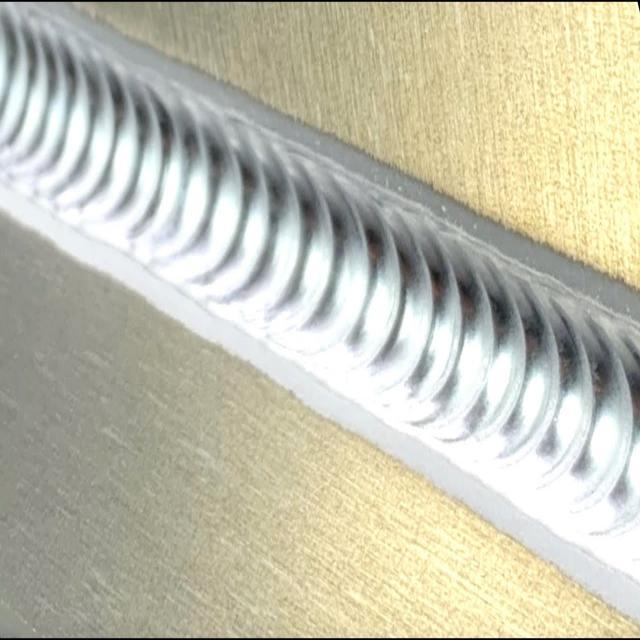Good Weld: (37, 12, 630, 536)
